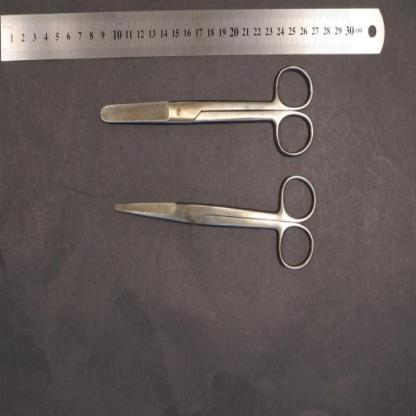Curved Mayo Scissors: (114, 174, 318, 273)
Dressing Scissors: (100, 63, 314, 159)
